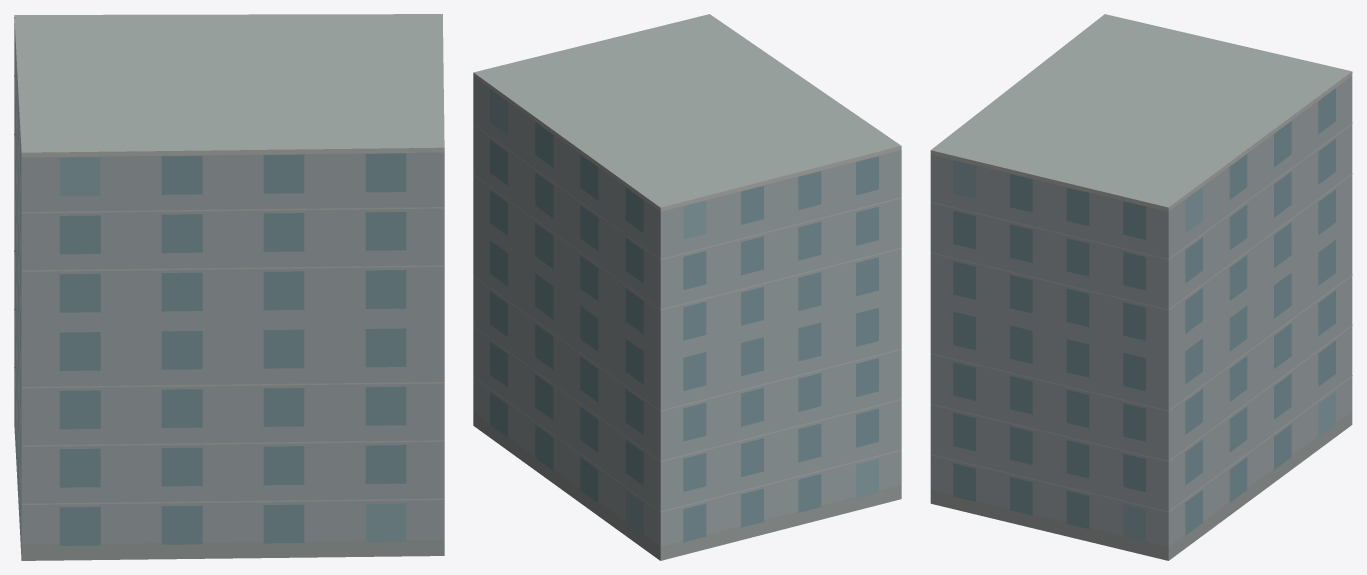
Rendered from survey-upis-32958541.glb.
3 renders of one model, left to right at view 1: azimuth 30°, elevation 25°; view 2: azimuth 150°, elevation 25°; view 3: azimuth 270°, elevation 25°, orthographic. The views are drawn at different scales.
Parts seen in each view (by area): view 1: survey-upis-32958541.tmp; view 2: survey-upis-32958541.tmp; view 3: survey-upis-32958541.tmp.
Boxes of the visible parts, x1=… form: survey-upis-32958541.tmp: x1=14, y1=14, x2=444, y2=560; survey-upis-32958541.tmp: x1=473, y1=14, x2=901, y2=560; survey-upis-32958541.tmp: x1=930, y1=14, x2=1352, y2=560.
Size of the model in its own units: 24.55 by 20.89 by 22.61.
